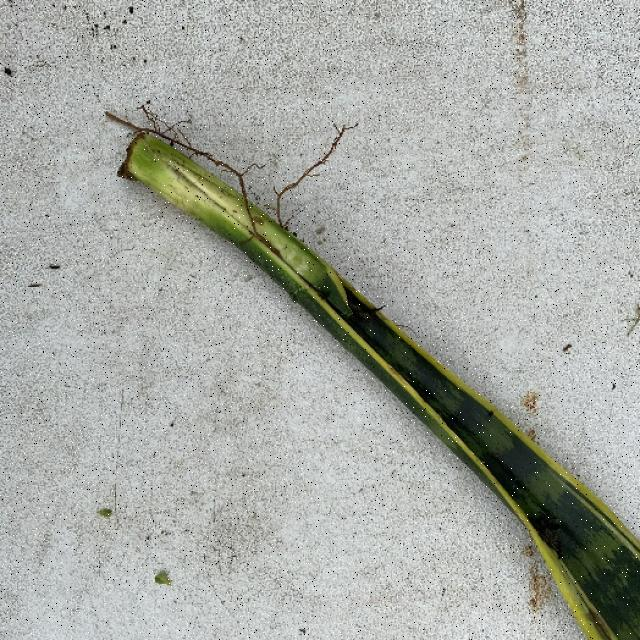organik: (119, 115, 640, 625)
